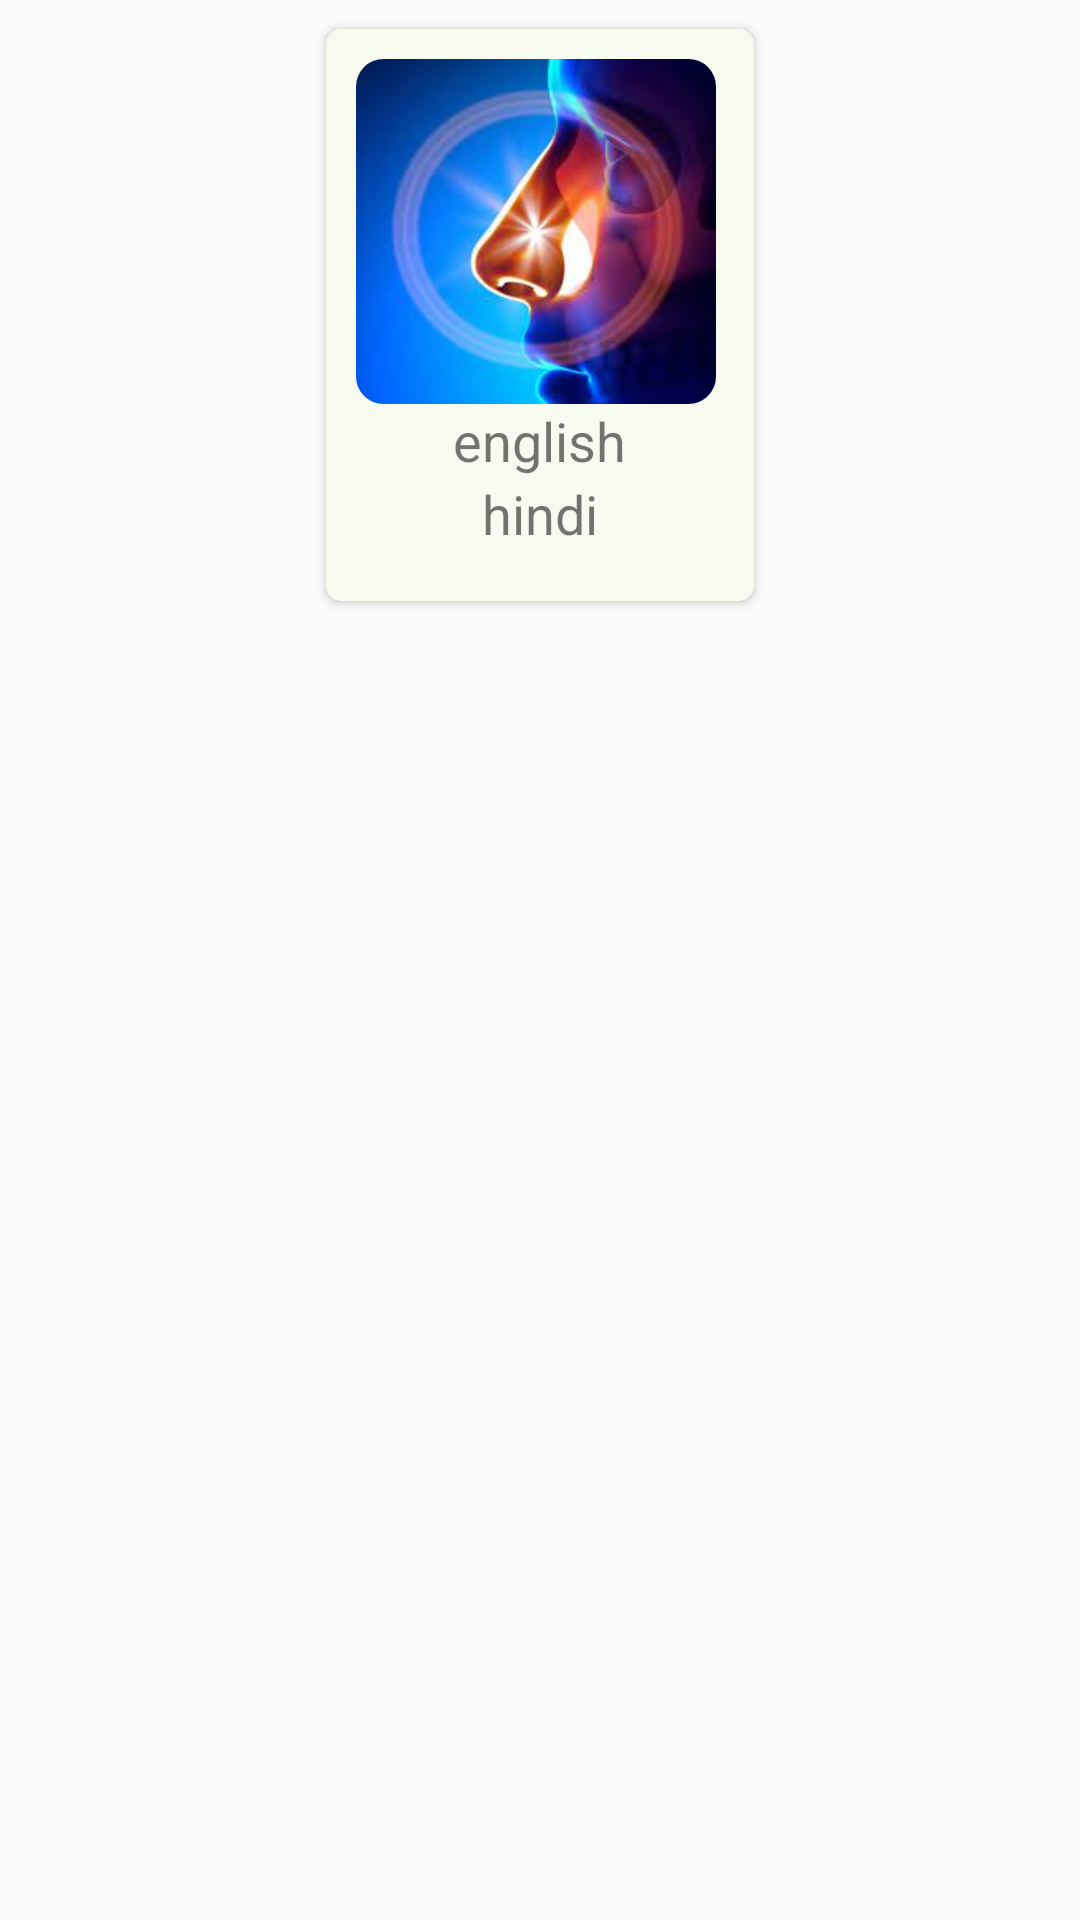

Point at icon controls on the screen. Image size 1080*1920, points as (x,y).
nose: (536,231)
